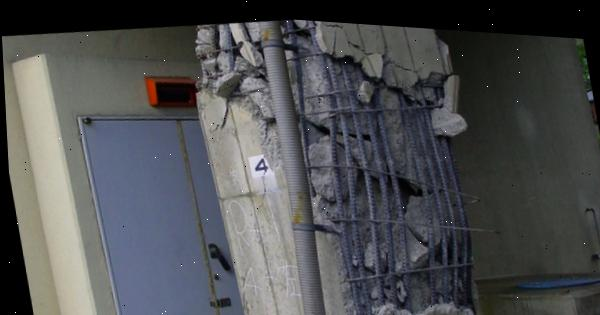spalling: (194, 14, 478, 315)
